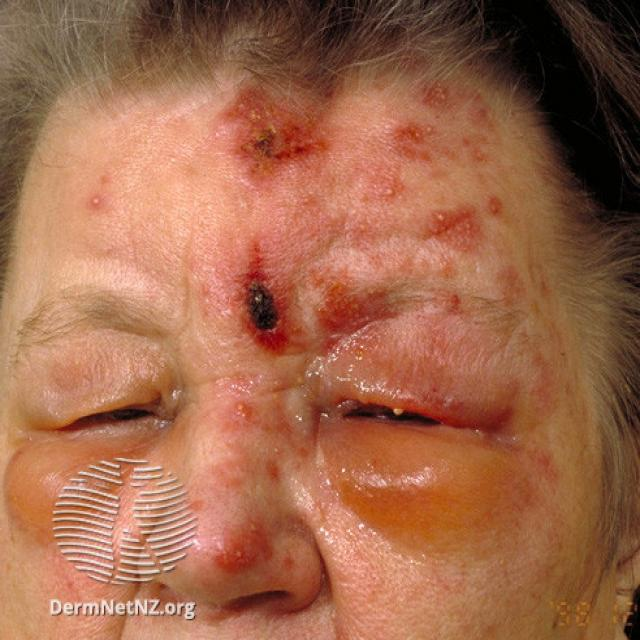herpes zoster: (362, 96, 537, 260), (205, 395, 293, 577), (215, 95, 319, 187), (242, 270, 292, 348)
